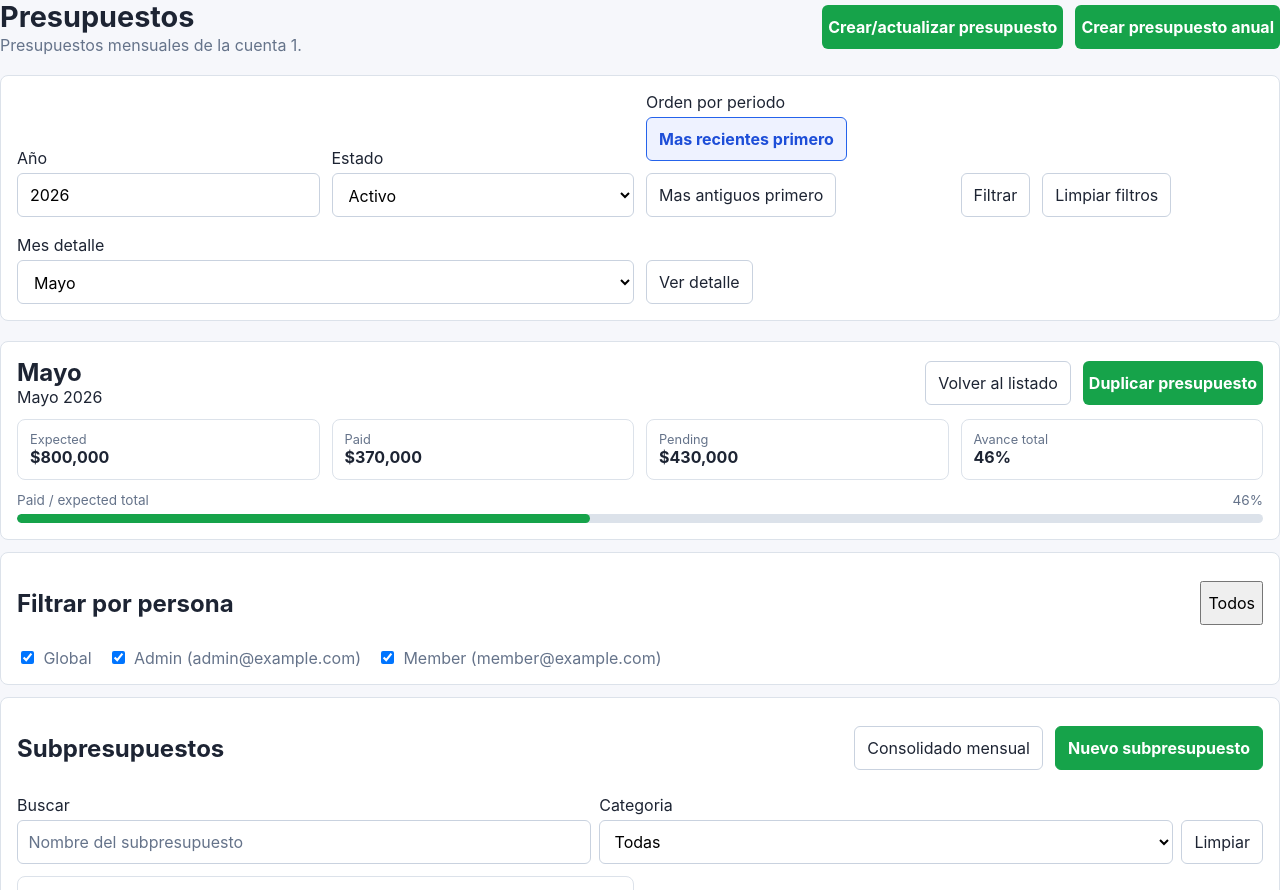
Test case: BudgetsPageComponent › returns to annual list when clicking back from detail view
This screenshot has width=1280, height=890.
Click the button "Volver al listado" at [998, 383], box top-left (925, 361), bottom-right (1071, 405)
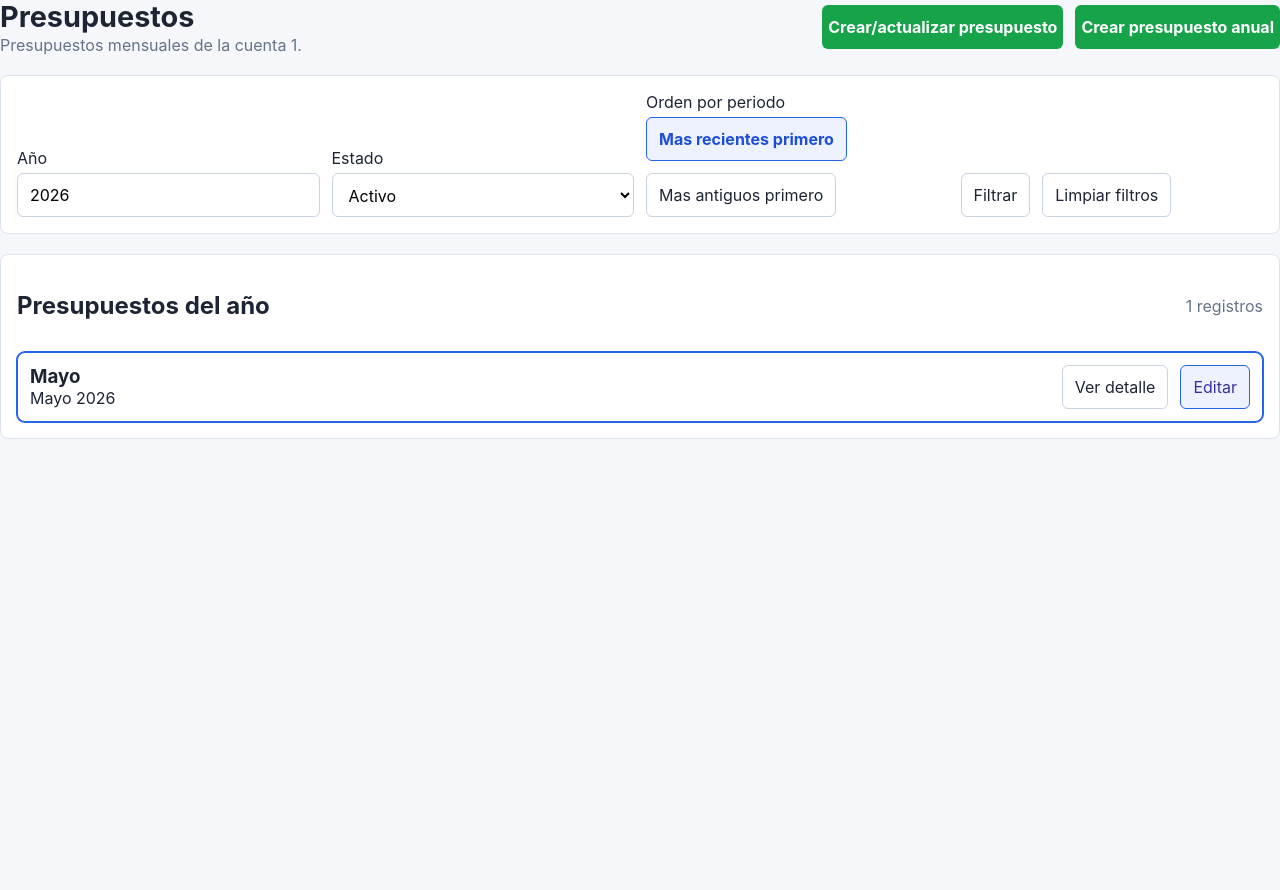
Expected: the text "Presupuestos del año" is shown, top-left (17, 291), bottom-right (270, 320)
